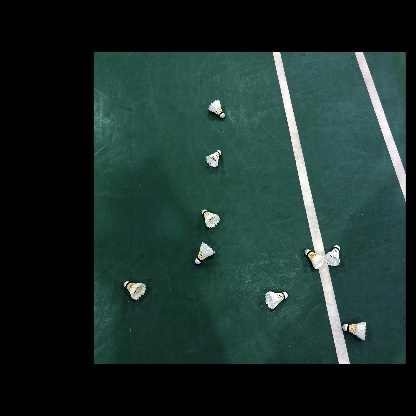ball_single: (304, 249, 326, 270), (342, 322, 366, 341), (195, 242, 215, 264), (124, 281, 146, 300), (265, 291, 288, 309), (202, 209, 220, 228), (325, 245, 340, 266), (208, 100, 225, 118), (205, 150, 221, 167)
